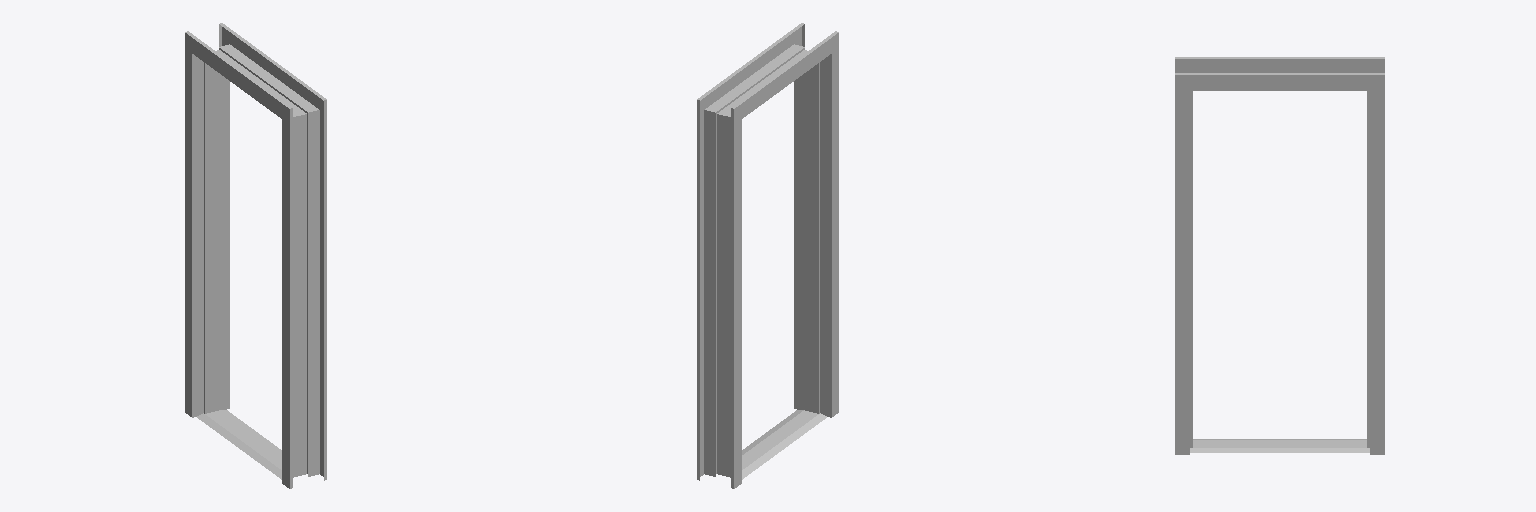
Rendered from HLADoor.obj.
3 renders of one model, left to right at view 1: azimuth 30°, elevation 25°; view 2: azimuth 150°, elevation 25°; view 3: azimuth 270°, elevation 25°, orthographic.
Parts seen in each view (by area): view 1: renderMesh0; view 2: renderMesh0; view 3: renderMesh0.
Part boxes in pixels (bbox=[...]): renderMesh0: bbox=[185, 23, 326, 488]; renderMesh0: bbox=[697, 23, 838, 488]; renderMesh0: bbox=[1175, 57, 1384, 454].
Bounding box in the file's own units: 10 × 96 × 48.